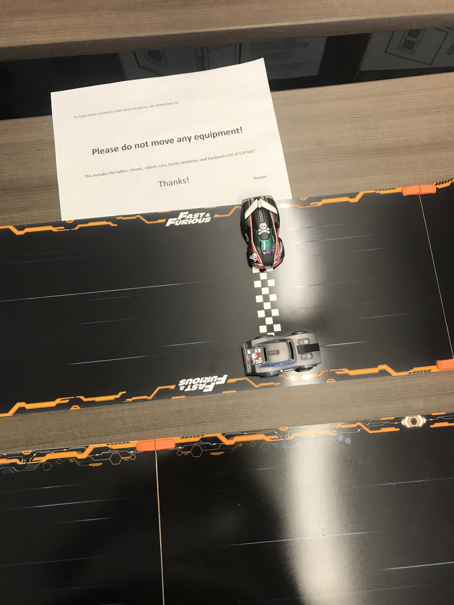Charger: (242, 329, 324, 377)
Finish Line: (244, 211, 293, 369)
Skull: (241, 195, 286, 270)
